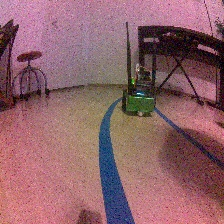rob: (120, 65, 156, 118)
